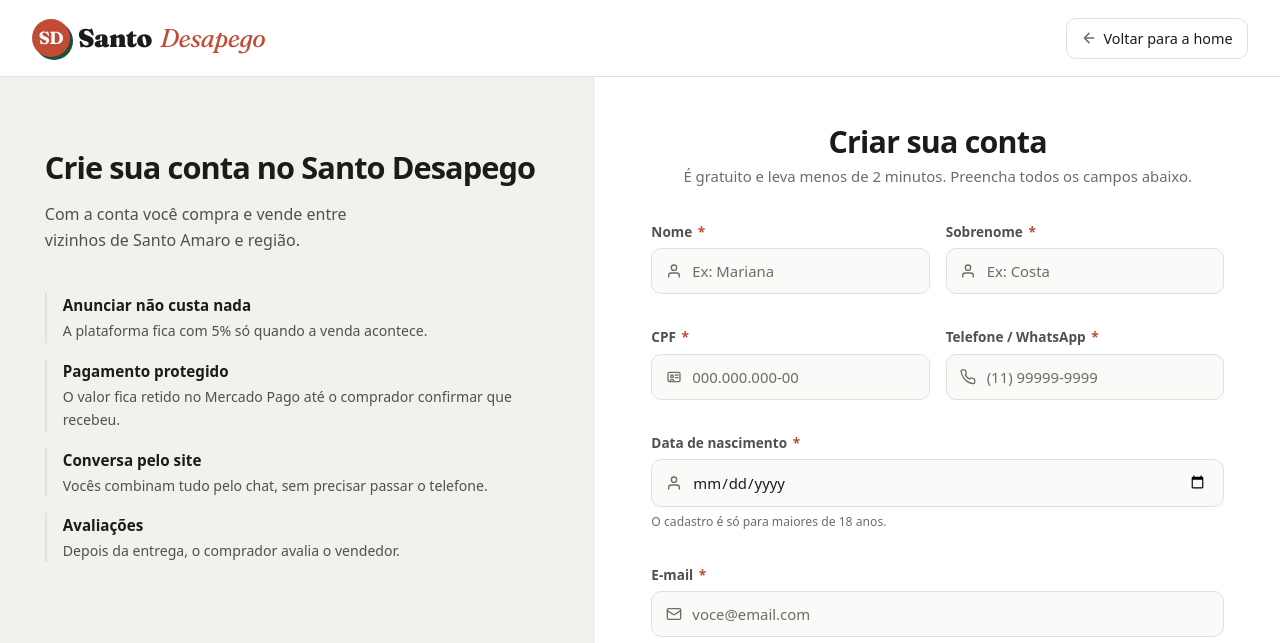
Test: RF01 - Gestão de Perfil Geográfico › e-mail inválido e confirmação diferente são apontados na hora
The image size is (1280, 643).
Type "ana@" into the field with placeholder "voce@email.com".
click(938, 614); type("ana@")  # box [651,591,1224,637]
(page scrolled)
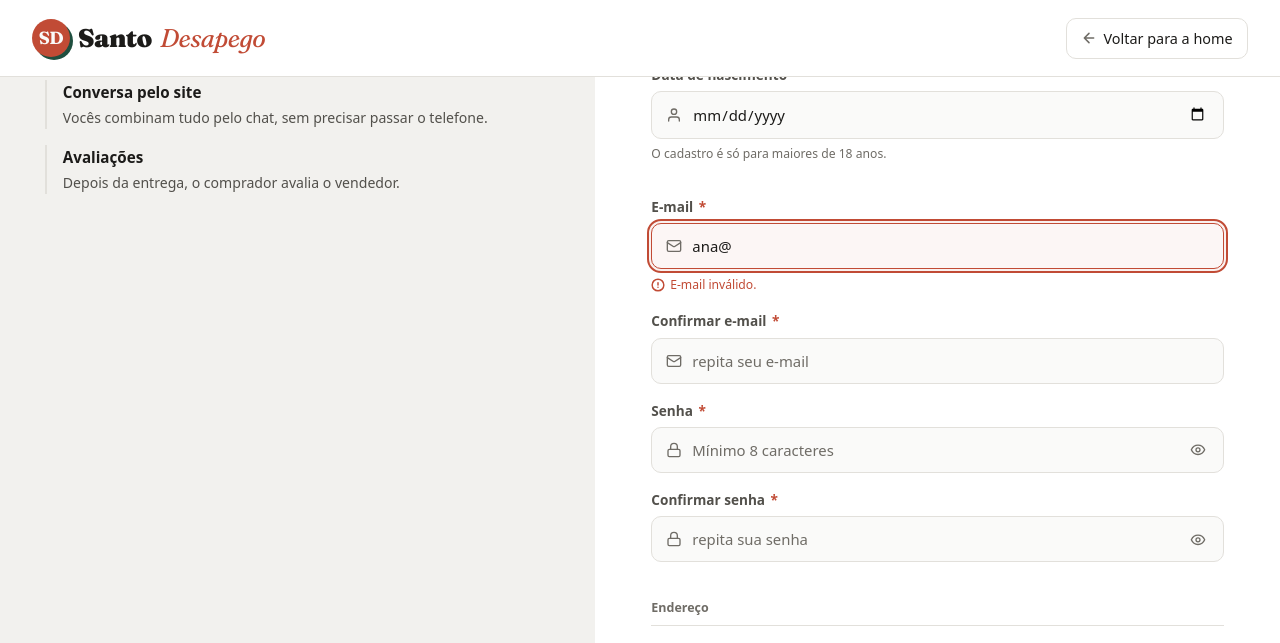
Result: the text "E-mail inválido." is shown at [651,276,756,293]
Type "outro@teste.com" into the field with placeholder "repita seu e-mail".
click(938, 361); type("outro@teste.com")  # box [651,338,1224,384]
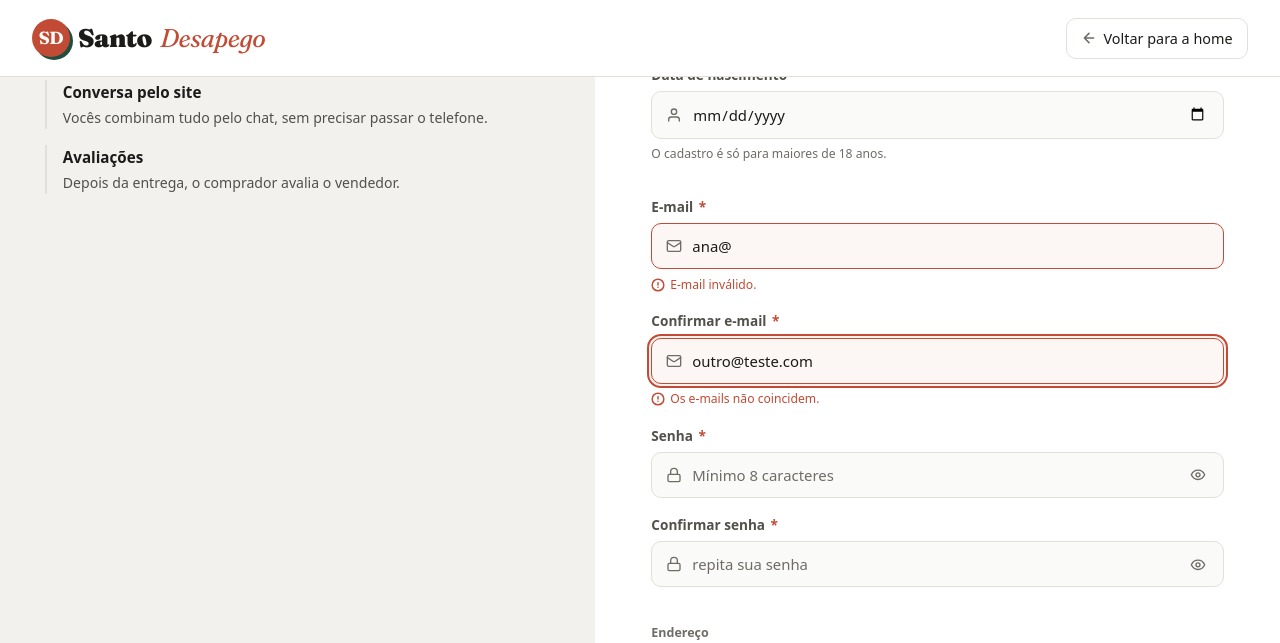
Result: the text "Os e-mails não coincidem." is shown at [651,390,819,407]
